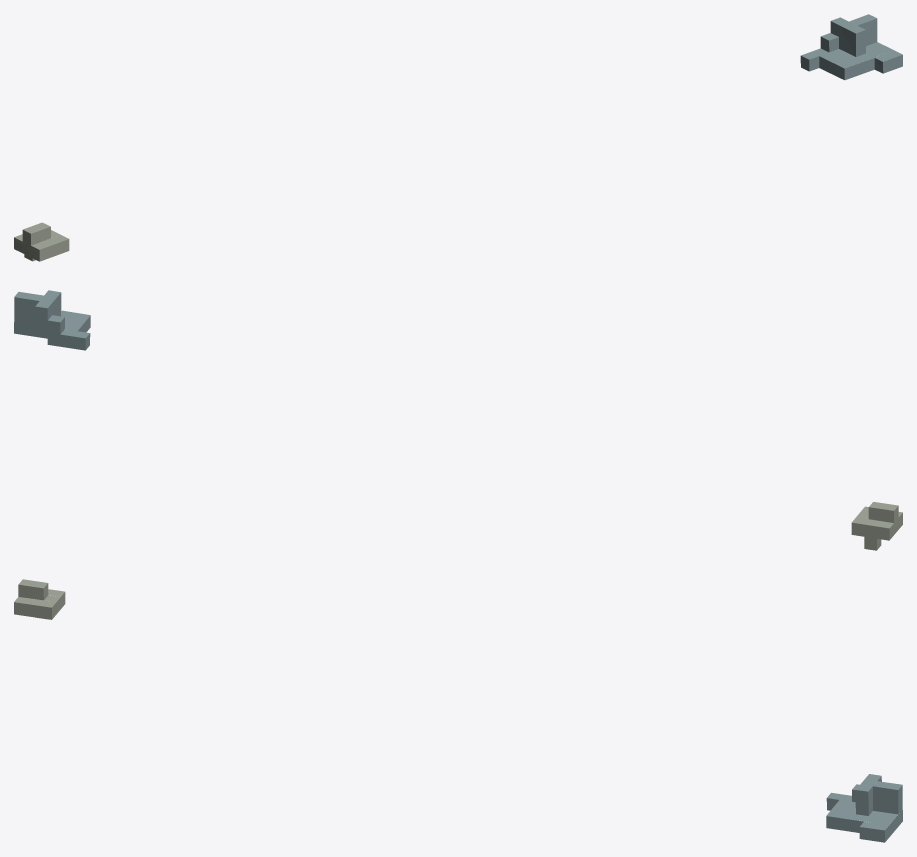
3 renders of one model, top to bottom at view 1: azimuth 30°, elevation 25°; view 2: azimuth 150°, elevation 25°; view 3: azimuth 330°, elevation 25°, orthographic. The views are drawn at different scales.
Parts seen in each view (by area): view 1: measured-industrial; view 2: measured-industrial; view 3: measured-industrial.
Part boxes in pixels (bbox=[...]): measured-industrial: bbox=[14, 14, 902, 261]; measured-industrial: bbox=[14, 290, 902, 550]; measured-industrial: bbox=[14, 579, 902, 842].
Bounding box in the file's own units: 76.06 × 3.34 × 5.06.
